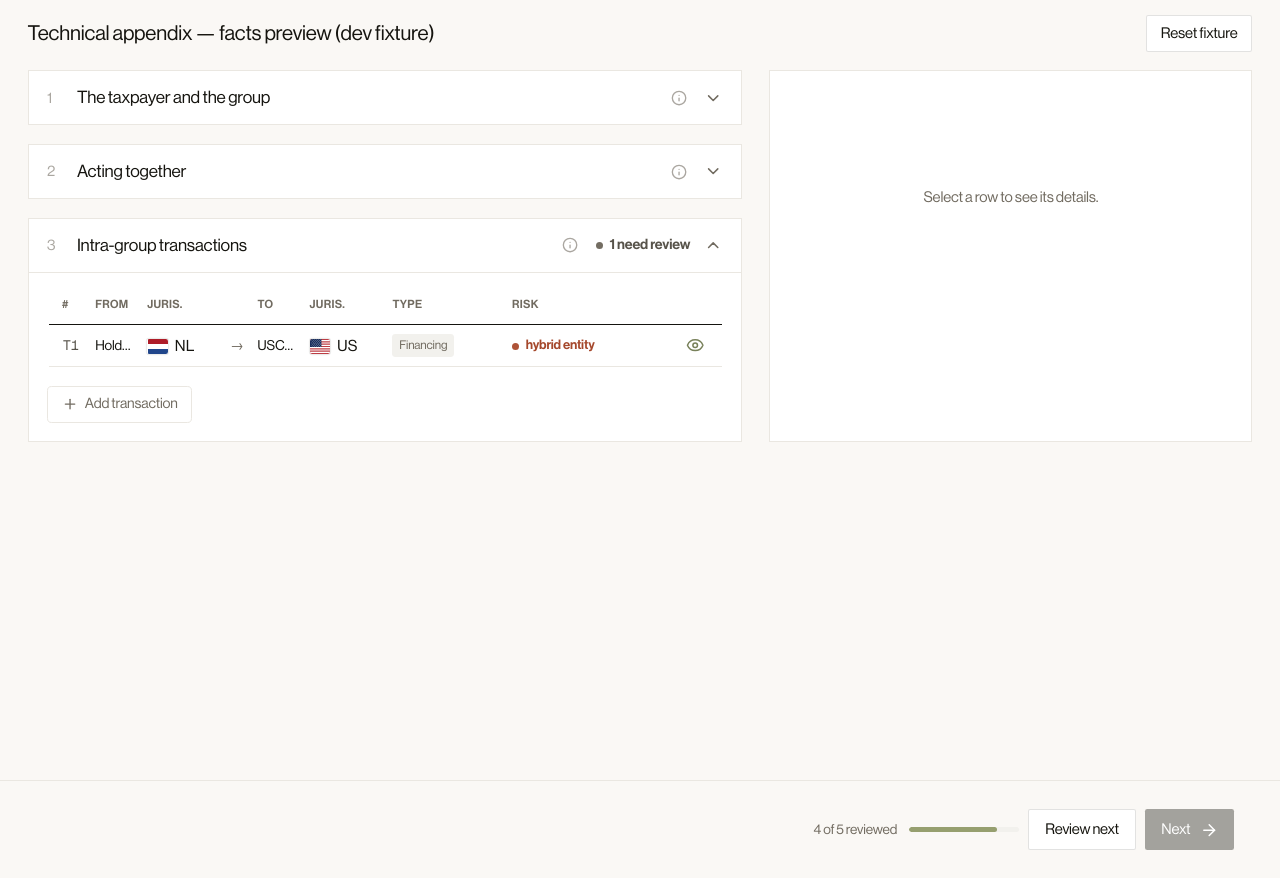
Facts page review gate (dev preview harness) › enables Next in place when the last review item is resolved
Check: the button "Next" is disabled, box [1145,809,1234,850]
Click the button "T1 HoldCo B.V. NL → USCo Inc. US Financing hybrid entity": [128, 345] box [48,324,722,367]
(page scrolled)
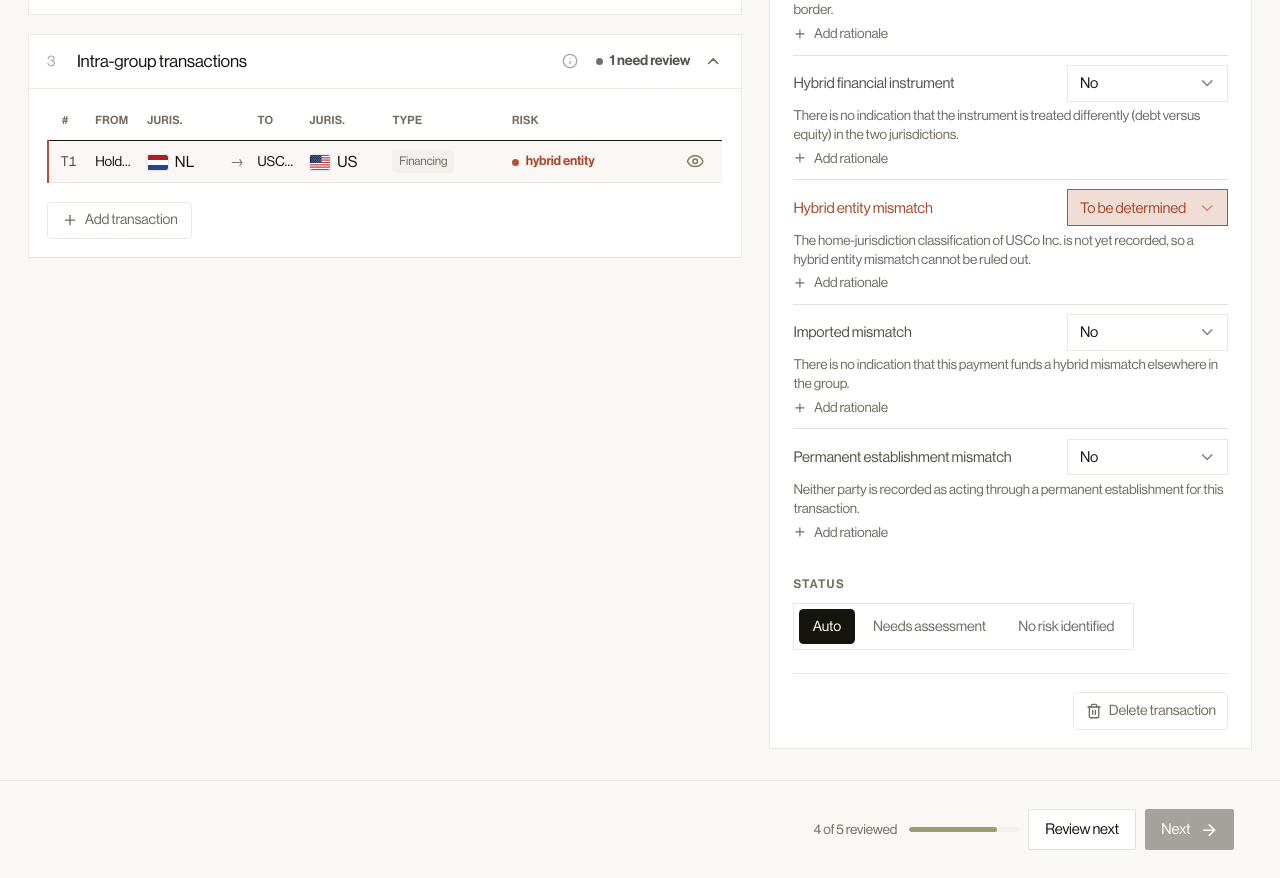
Click the button "No risk identified": [1066, 627] box [1004,609,1128,644]
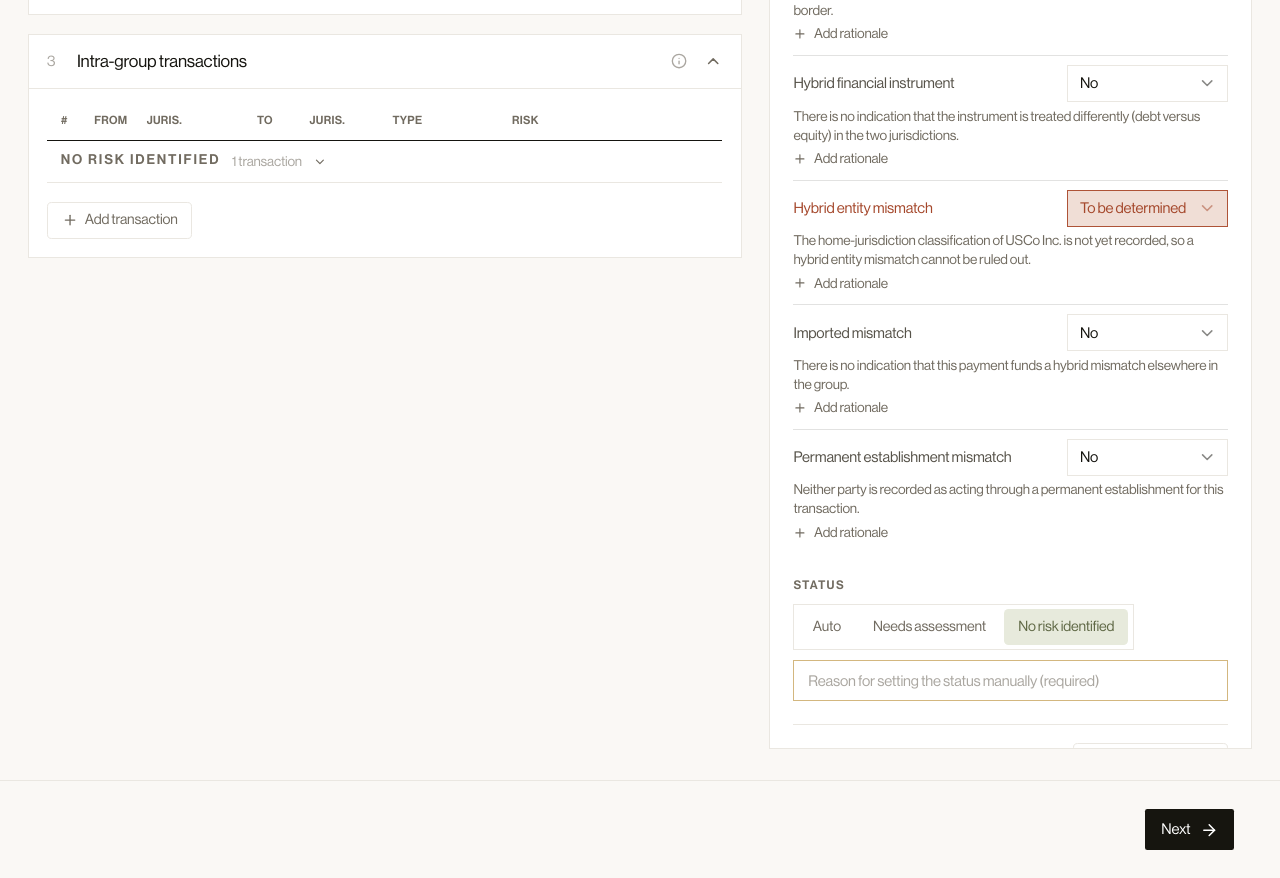
Check: the button "Next" is enabled, box [1145,809,1234,850]
Check: the text "of 5 reviewed" is gone
Check: the button "Review next" is gone
